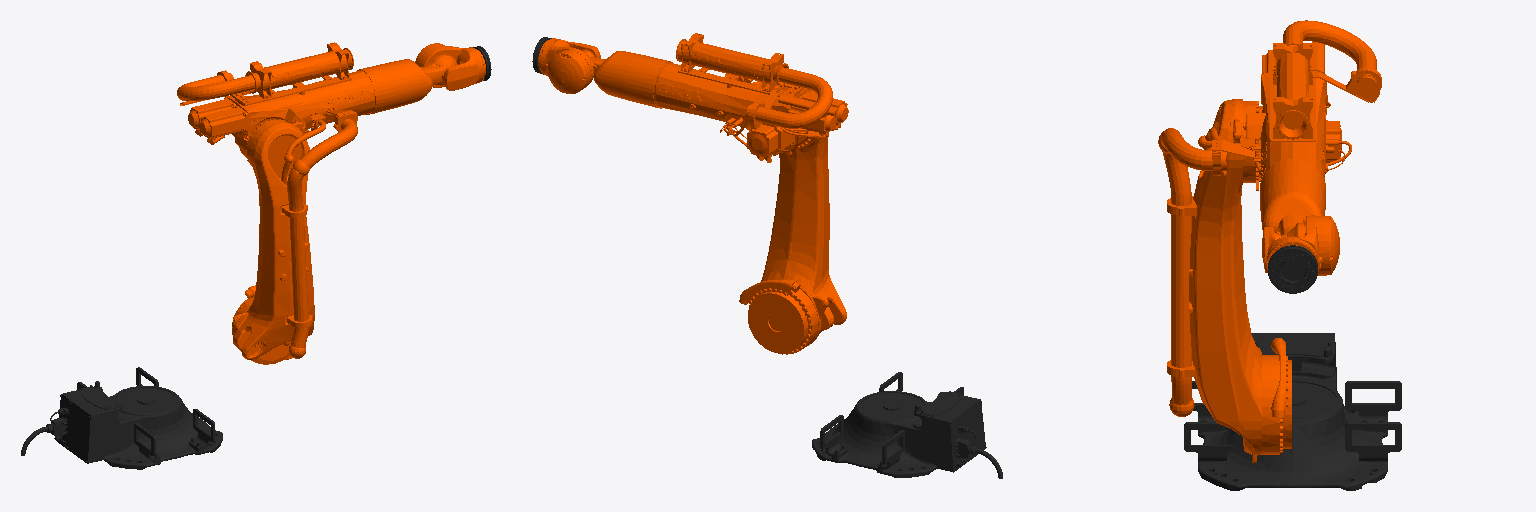
URDF robot description (kuka_kr_270_r3100_2_k):
<?xml version="1.0"?>
<robot name="kuka_kr_270_r3100_2_k">
  <material name="kuka_orange"><color rgba="1.00 0.40 0.00 1.0"/></material>
  <material name="kuka_dark_gray"><color rgba="0.20 0.20 0.20 1.0"/></material>

  <link name="base_link">
    <inertial>
      <origin xyz="-0.116267 0.000817 0.107872" rpy="0 0 0"/>
      <mass value="320.000"/>
      <inertia ixx="10.006178" ixy="0.178216" ixz="1.609017" iyy="14.837296" iyz="-0.031539" izz="21.073557"/>
    </inertial>
    <visual>
      <origin xyz="0 0 0" rpy="0 0 0"/>
      <geometry><mesh filename="meshes/visual/base_link.stl"/></geometry>
      <material name="kuka_dark_gray"/>
    </visual>
    <collision>
      <origin xyz="0 0 0" rpy="0 0 0"/>
      <geometry><mesh filename="meshes/visual/base_link.stl"/></geometry>
    </collision>
  </link>

  <link name="link_1">
    <inertial>
      <origin xyz="0.208777 -0.056249 0.449965" rpy="0 0 0"/>
      <mass value="420.000"/>
      <inertia ixx="19.741219" ixy="-2.330789" ixz="-1.640102" iyy="39.199672" iyz="-3.446303" izz="36.708163"/>
    </inertial>
    <visual>
      <origin xyz="0 0 0" rpy="0 0 0"/>
      <geometry><mesh filename="meshes/visual/link_1.stl"/></geometry>
      <material name="kuka_orange"/>
    </visual>
    <collision>
      <origin xyz="0 0 0" rpy="0 0 0"/>
      <geometry><mesh filename="meshes/visual/link_1.stl"/></geometry>
    </collision>
  </link>

  <link name="link_2">
    <inertial>
      <origin xyz="-0.003039 -0.258943 0.512476" rpy="0 0 0"/>
      <mass value="520.000"/>
      <inertia ixx="70.167585" ixy="-0.102132" ixz="-0.440057" iyy="67.916288" iyz="4.823805" izz="9.838163"/>
    </inertial>
    <visual>
      <origin xyz="0 0 0" rpy="0 0 0"/>
      <geometry><mesh filename="meshes/visual/link_2.stl"/></geometry>
      <material name="kuka_orange"/>
    </visual>
    <collision>
      <origin xyz="0 0 0" rpy="0 0 0"/>
      <geometry><mesh filename="meshes/visual/link_2.stl"/></geometry>
    </collision>
  </link>

  <link name="link_3">
    <inertial>
      <origin xyz="0.143154 -0.017340 0.154365" rpy="0 0 0"/>
      <mass value="400.000"/>
      <inertia ixx="9.929279" ixy="2.245171" ixz="0.325524" iyy="27.500810" iyz="-0.964105" izz="28.909757"/>
    </inertial>
    <visual>
      <origin xyz="0 0 0" rpy="0 0 0"/>
      <geometry><mesh filename="meshes/visual/link_3.stl"/></geometry>
      <material name="kuka_orange"/>
    </visual>
    <collision>
      <origin xyz="0 0 0" rpy="0 0 0"/>
      <geometry><mesh filename="meshes/visual/link_3.stl"/></geometry>
    </collision>
  </link>

  <link name="link_4">
    <inertial>
      <origin xyz="-0.276062 0.002249 0.000022" rpy="0 0 0"/>
      <mass value="90.000"/>
      <inertia ixx="0.718001" ixy="-0.035603" ixz="0.000195" iyy="1.689725" iyz="-0.000022" izz="1.693361"/>
    </inertial>
    <visual>
      <origin xyz="0 0 0" rpy="0 0 0"/>
      <geometry><mesh filename="meshes/visual/link_4.stl"/></geometry>
      <material name="kuka_orange"/>
    </visual>
    <collision>
      <origin xyz="0 0 0" rpy="0 0 0"/>
      <geometry><mesh filename="meshes/visual/link_4.stl"/></geometry>
    </collision>
  </link>

  <link name="link_5">
    <inertial>
      <origin xyz="0.060315 0.034339 -0.000214" rpy="0 0 0"/>
      <mass value="80.000"/>
      <inertia ixx="0.685046" ixy="0.110713" ixz="-0.001298" iyy="0.710240" iyz="-0.001589" izz="0.903399"/>
    </inertial>
    <visual>
      <origin xyz="0 0 0" rpy="0 0 0"/>
      <geometry><mesh filename="meshes/visual/link_5.stl"/></geometry>
      <material name="kuka_orange"/>
    </visual>
    <collision>
      <origin xyz="0 0 0" rpy="0 0 0"/>
      <geometry><mesh filename="meshes/visual/link_5.stl"/></geometry>
    </collision>
  </link>

  <link name="link_6">
    <inertial>
      <origin xyz="-0.015602 0.000040 -0.000133" rpy="0 0 0"/>
      <mass value="50.000"/>
      <inertia ixx="0.217569" ixy="0.000015" ixz="-0.000014" iyy="0.138329" iyz="0.000065" izz="0.139122"/>
    </inertial>
    <visual>
      <origin xyz="0 0 0" rpy="0 0 0"/>
      <geometry><mesh filename="meshes/visual/link_6.stl"/></geometry>
      <material name="kuka_dark_gray"/>
    </visual>
    <collision>
      <origin xyz="0 0 0" rpy="0 0 0"/>
      <geometry><mesh filename="meshes/visual/link_6.stl"/></geometry>
    </collision>
  </link>

  <link name="tool0"/>

  <joint name="joint_a1" type="revolute">
    <parent link="base_link"/>
    <child link="link_1"/>
    <origin xyz="0.000000 0.000000 0.000000" rpy="0 0 0"/>
    <axis xyz="0.0 0.0 -1.0"/>
    <limit lower="-3.228859" upper="3.228859" effort="13000.0" velocity="3.000000"/>
    <dynamics damping="5.0" friction="1.0"/>
  </joint>

  <joint name="joint_a2" type="revolute">
    <parent link="link_1"/>
    <child link="link_2"/>
    <origin xyz="0.730000 0.000000 0.550000" rpy="0 0 0"/>
    <axis xyz="0.0 1.0 0.0"/>
    <limit lower="-0.523599" upper="2.792527" effort="15000.0" velocity="3.000000"/>
    <dynamics damping="5.0" friction="1.0"/>
  </joint>

  <joint name="joint_a3" type="revolute">
    <parent link="link_2"/>
    <child link="link_3"/>
    <origin xyz="0.000000 0.000000 1.150000" rpy="0 0 0"/>
    <axis xyz="0.0 1.0 0.0"/>
    <limit lower="-3.665191" upper="1.361357" effort="10000.0" velocity="3.000000"/>
    <dynamics damping="5.0" friction="1.0"/>
  </joint>

  <joint name="joint_a4" type="revolute">
    <parent link="link_3"/>
    <child link="link_4"/>
    <origin xyz="1.220000 0.000000 0.115000" rpy="0 0 0"/>
    <axis xyz="-1.0 0.0 -0.0"/>
    <limit lower="-6.108652" upper="6.108652" effort="4000.0" velocity="3.000000"/>
    <dynamics damping="5.0" friction="1.0"/>
  </joint>

  <joint name="joint_a5" type="revolute">
    <parent link="link_4"/>
    <child link="link_5"/>
    <origin xyz="0.000000 0.000000 0.000000" rpy="0 0 0"/>
    <axis xyz="0.0 1.0 0.0"/>
    <limit lower="-2.138028" upper="2.138028" effort="2800.0" velocity="3.000000"/>
    <dynamics damping="5.0" friction="1.0"/>
  </joint>

  <joint name="joint_a6" type="revolute">
    <parent link="link_5"/>
    <child link="link_6"/>
    <origin xyz="0.240000 0.000000 0.000000" rpy="0 0 0"/>
    <axis xyz="-1.0 0.0 -0.0"/>
    <limit lower="-6.108652" upper="6.108652" effort="1700.0" velocity="3.000000"/>
    <dynamics damping="5.0" friction="1.0"/>
  </joint>

  <joint name="link_6-tool0" type="fixed">
    <parent link="link_6"/>
    <child link="tool0"/>
    <origin xyz="0.000000 0.000000 0.000000" rpy="0 1.57079632679 0"/>
  </joint>
</robot>

--- What the picture shows (computed from the rendered views, not written in the file) ---
Views: 3 orthographic renders of the robot side by side, from view 1: azimuth 30°, elevation 25°; view 2: azimuth 150°, elevation 25°; view 3: azimuth 270°, elevation 25°.
Robot: kuka_kr_270_r3100_2_k — 8 links, 7 joints (6 revolute, 1 fixed); root link base_link; default pose: every joint at zero.
Links seen in each view (by area): view 1: link_2, link_3, base_link, link_4, link_5; view 2: link_3, link_2, base_link, link_4, link_5; view 3: link_2, base_link, link_3, link_4, link_5, link_6.
Link boxes in pixels (x1,y1,x2,y2): link_2: [232, 119, 314, 364]; link_3: [177, 42, 374, 175]; base_link: [21, 367, 222, 469]; link_4: [357, 54, 457, 114]; link_5: [415, 43, 485, 90]; link_3: [653, 33, 848, 162]; link_2: [739, 86, 846, 354]; base_link: [812, 372, 1002, 478]; link_4: [588, 51, 672, 108]; link_5: [538, 38, 600, 93]; link_2: [1160, 99, 1291, 462]; base_link: [1184, 333, 1401, 490]; link_3: [1158, 20, 1381, 190]; link_4: [1260, 159, 1325, 237]; link_5: [1262, 215, 1339, 275]; link_6: [1268, 245, 1317, 293].
Bounding box of the posed robot: 2.94 × 0.965 × 2.13 m (x, y, z).
Meshes: 7 distinct files referenced, 6 mesh visuals loaded (6 binary STL); not drawn: 1 (reference not matched to a file when rendering).
